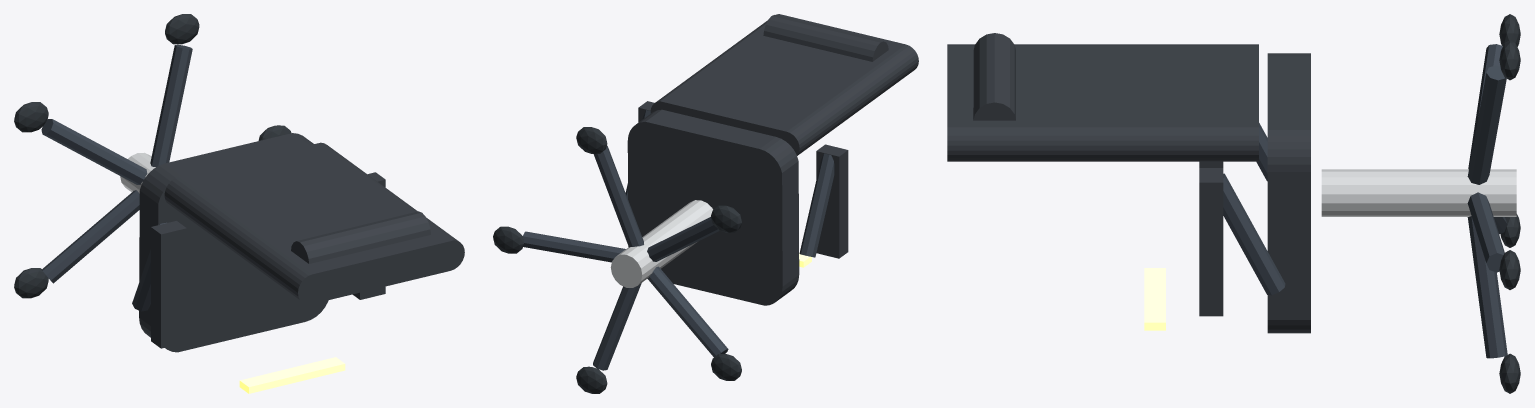
The model's file is RECEPTION_STAFF_CHAIR_001.glb.
3 renders of one model, left to right at view 1: azimuth 30°, elevation 25°; view 2: azimuth 150°, elevation 25°; view 3: azimuth 270°, elevation 25°, orthographic. The views are drawn at different scales.
Visible parts, largest first — view 1: back_001, seat_000, armrest_014, headrest_017, star_base_005, star_base_009, star_base_007, front_badge_018, caster_006, caster_008, caster_010, armrest_post_013 (+1 smaller); view 2: seat_000, back_001, gas_lift_002, headrest_017, armrest_014, star_base_009, armrest_post_013, star_base_005, star_base_003, star_base_011, star_base_007, caster_004 (+4 smaller); view 3: back_001, seat_000, gas_lift_002, armrest_016, headrest_017, star_base_005, armrest_post_015, star_base_011, star_base_003, front_badge_018, star_base_007, caster_004 (+3 smaller).
Boxes of the visible parts, <box> form: back_001: <box>164,142,464,304</box>; seat_000: <box>139,133,328,352</box>; armrest_014: <box>151,221,186,348</box>; headrest_017: <box>291,211,430,263</box>; star_base_005: <box>150,44,192,166</box>; star_base_009: <box>41,190,139,283</box>; star_base_007: <box>41,119,147,184</box>; front_badge_018: <box>239,357,345,393</box>; caster_006: <box>165,14,199,44</box>; caster_008: <box>14,102,48,132</box>; caster_010: <box>14,268,48,298</box>; armrest_post_013: <box>132,222,166,311</box>; seat_000: <box>627,109,799,305</box>; back_001: <box>650,14,918,155</box>; gas_lift_002: <box>610,200,712,287</box>; headrest_017: <box>763,15,888,61</box>; armrest_014: <box>816,144,848,258</box>; star_base_009: <box>647,266,728,356</box>; armrest_post_013: <box>799,153,834,257</box>; star_base_005: <box>593,145,643,247</box>; star_base_003: <box>522,231,625,262</box>; star_base_011: <box>593,283,641,370</box>; star_base_007: <box>647,217,719,261</box>; caster_004: <box>493,226,523,253</box>; back_001: <box>947,44,1258,161</box>; seat_000: <box>1267,53,1310,333</box>; gas_lift_002: <box>1321,169,1516,216</box>; armrest_016: <box>1199,168,1223,316</box>; headrest_017: <box>973,33,1015,120</box>; star_base_005: <box>1467,65,1506,184</box>; armrest_post_015: <box>1223,173,1285,295</box>; star_base_011: <box>1467,216,1507,358</box>; star_base_003: <box>1467,192,1504,272</box>; front_badge_018: <box>1144,268,1165,330</box>; star_base_007: <box>1468,44,1502,169</box>; caster_004: <box>1499,250,1520,289</box>.
Bounding box in the file's own units: 0.8678 × 0.8889 × 1.32.
